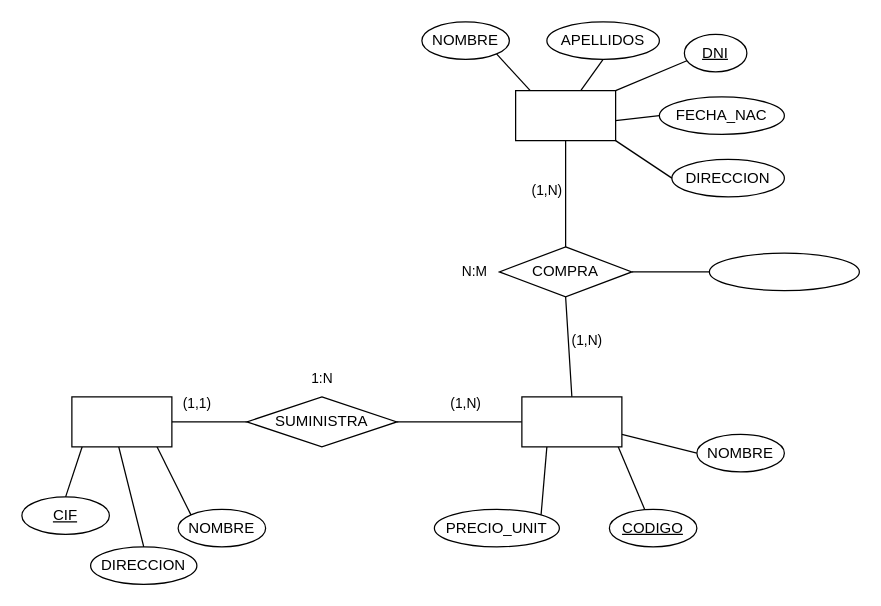
Image size: 881x606. Some labels were removed from this diagram. The shapes that lost their labels are listed below. From the top down, each one's centre as x and y in pixels, then its label:
the point at 565,115: CLIENTE
the point at 783,271: CANTIDAD_PROD
the point at 121,421: PROVEEDOR
the point at 571,421: PRODUCTO
